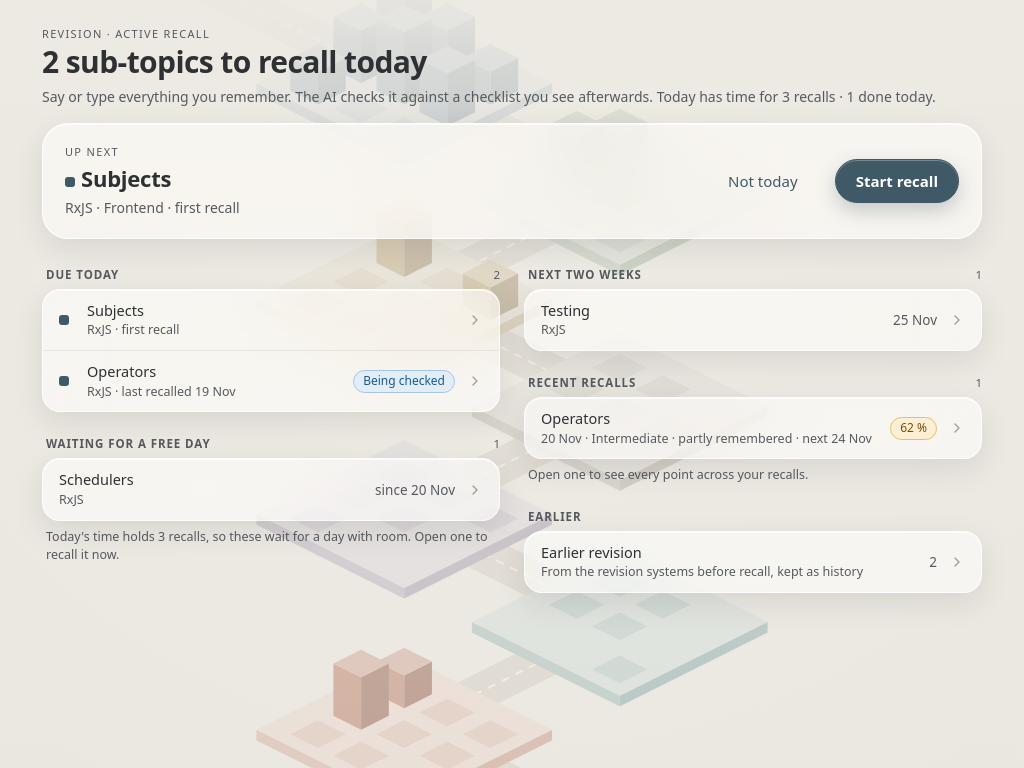
Test: Revision tab › keeps the earlier revision history read-only, folded into one row
The width and height of the screenshot is (1024, 768).
Click the button "Earlier revision" at (753, 562), box [525,532,981,592]
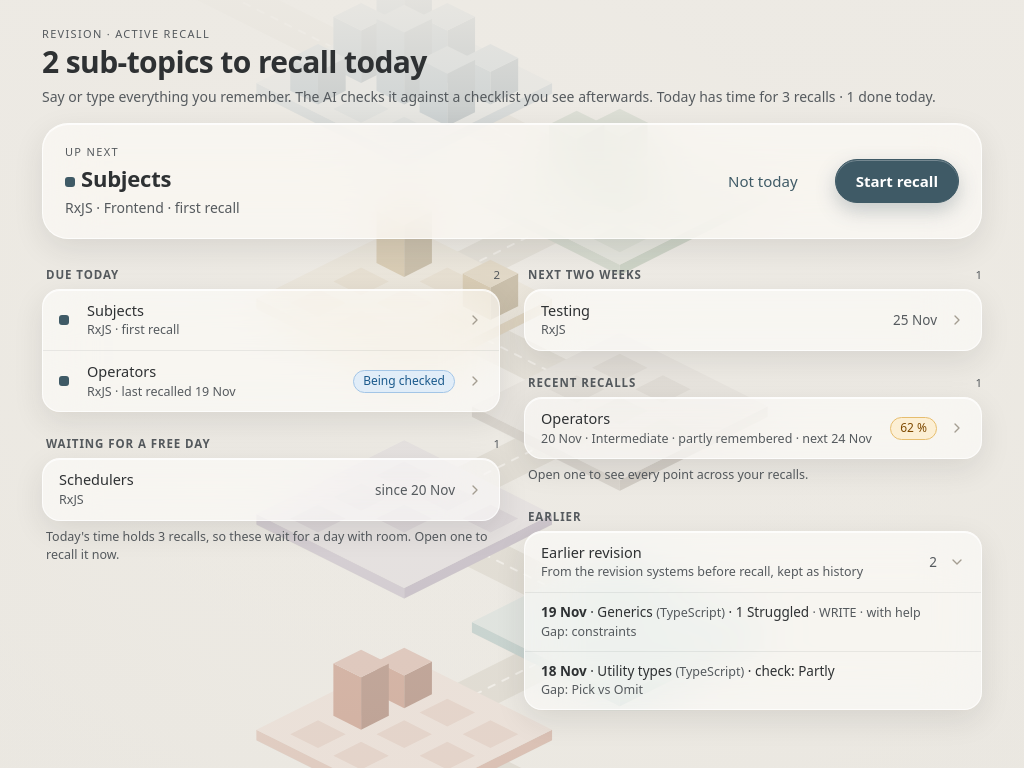
Expected: the list item that starts with "18 Nov" reads "18 Nov · Utility types (TypeScript) · check: Partly Gap: Pick vs Omit", [541,662,835,698]
